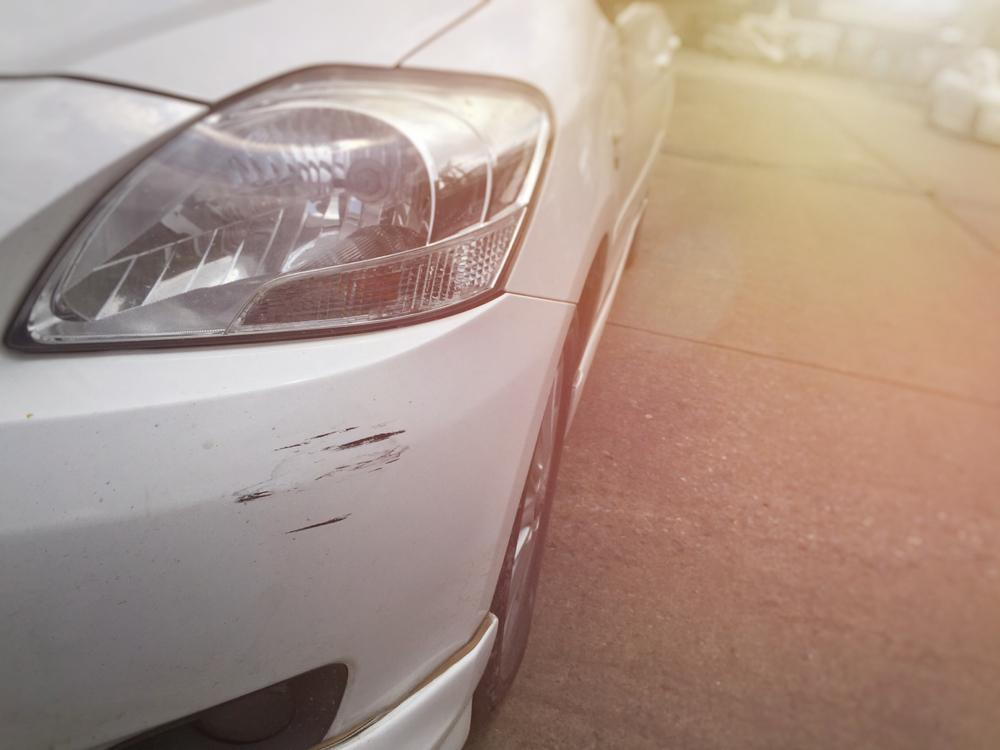scratch: (225, 415, 417, 549)
